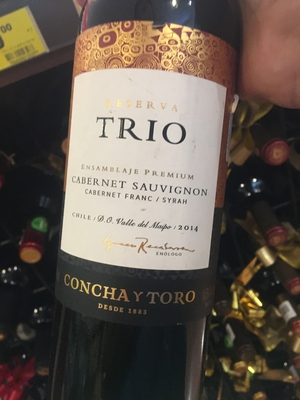trio cabernet sauvignon: (47, 14, 251, 400)
